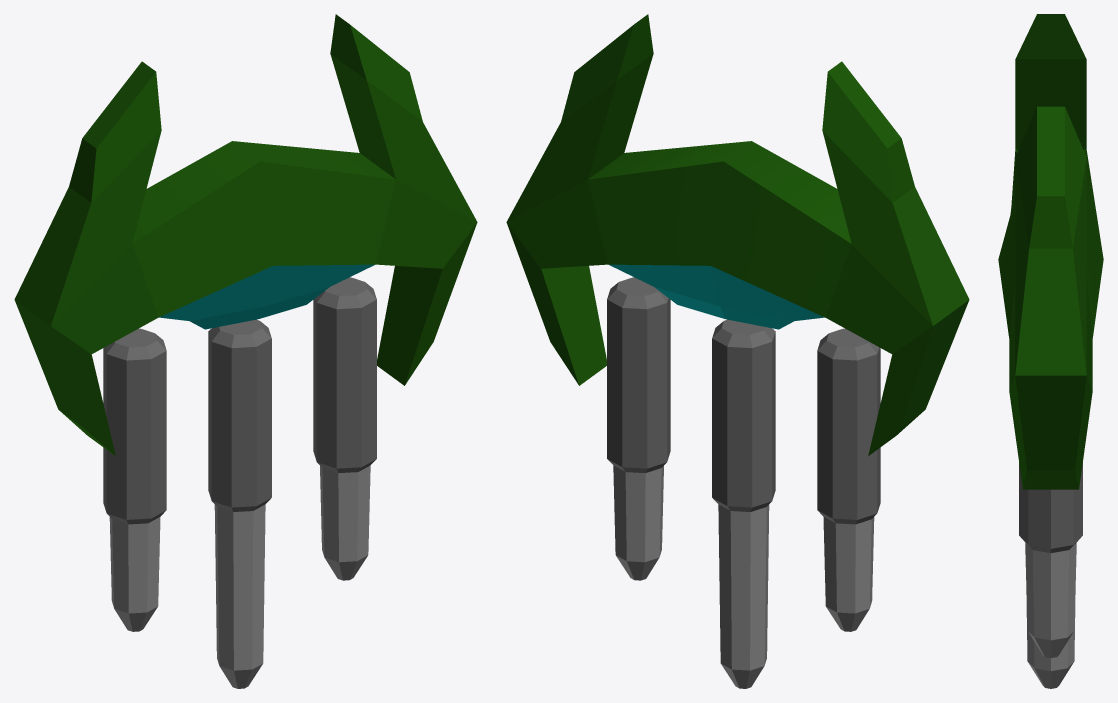
File: Hadraniel.fbx
3 renders of one model, left to right at view 1: azimuth 30°, elevation 25°; view 2: azimuth 150°, elevation 25°; view 3: azimuth 270°, elevation 25°, orthographic. The views are drawn at different scales.
Parts seen in each view (by area): view 1: pCube1, pCylinder4, pCylinder5, pCylinder6; view 2: pCube1, pCylinder4, pCylinder5, pCylinder6; view 3: pCube1, pCylinder5, pCylinder4.
Boxes of the visible parts, <box> form: pCube1: <box>14,14,477,456</box>; pCylinder4: <box>208,319,271,688</box>; pCylinder5: <box>313,277,376,580</box>; pCylinder6: <box>103,328,166,631</box>; pCube1: <box>506,14,969,456</box>; pCylinder4: <box>712,319,775,688</box>; pCylinder5: <box>607,277,670,580</box>; pCylinder6: <box>817,328,880,631</box>; pCube1: <box>998,14,1103,489</box>; pCylinder5: <box>1019,462,1082,657</box>; pCylinder4: <box>1026,593,1075,688</box>.
Size of the model in its own units: 13.46 by 19.33 by 2.94.
